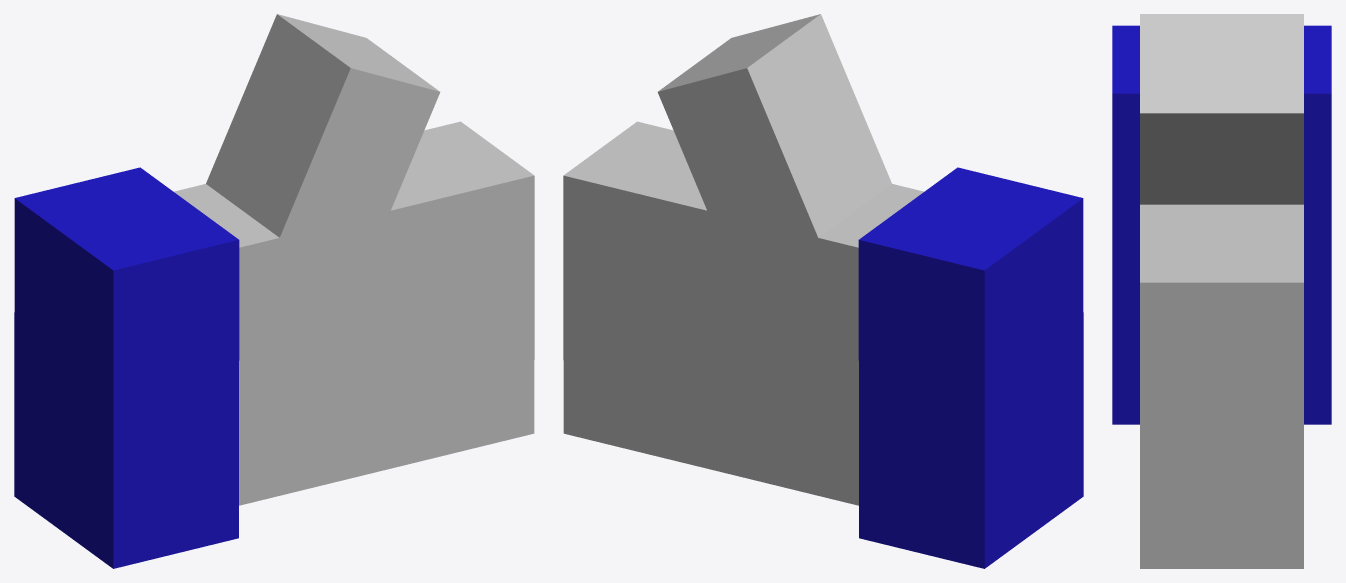
The model's file is good.dae.
3 renders of one model, left to right at view 1: azimuth 30°, elevation 25°; view 2: azimuth 150°, elevation 25°; view 3: azimuth 270°, elevation 25°, orthographic. The views are drawn at different scales.
Visible parts, largest first — view 1: Cube-001; view 2: Cube-001; view 3: Cube-001.
Boxes of the visible parts, box(x1,y1,x2,y2) form: Cube-001: box(14, 14, 534, 568); Cube-001: box(563, 14, 1083, 568); Cube-001: box(1112, 14, 1331, 568).
Bounding box in the file's own units: 3.39 × 3.22 × 1.34.
